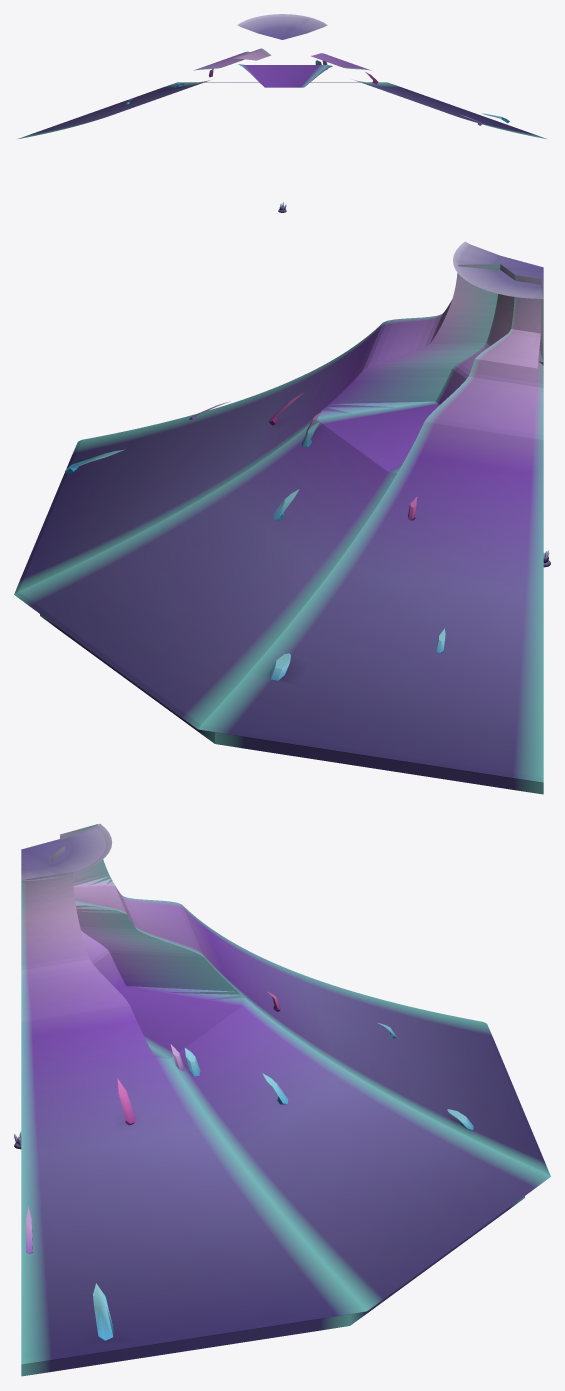
File: caverns-s2-CTeZTeoD.glb
3 renders of one model, top to bottom at view 1: azimuth 30°, elevation 25°; view 2: azimuth 150°, elevation 25°; view 3: azimuth 270°, elevation 25°, orthographic. The views are drawn at different scales.
Parts seen in each view (by area): view 1: sc_landmark_0; view 2: sc_landmark_0; view 3: sc_landmark_0.
Part boxes in pixels (bbox=[...]): sc_landmark_0: bbox=[17, 14, 547, 139]; sc_landmark_0: bbox=[14, 241, 543, 794]; sc_landmark_0: bbox=[21, 823, 550, 1376].
Size of the model in its own units: 648 by 282 by 432.
